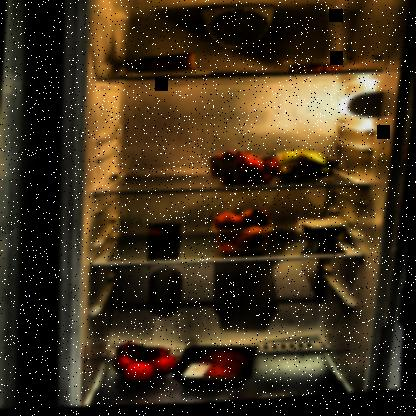banana: (275, 148, 344, 184)
beef: (194, 352, 250, 385)
cheese: (130, 54, 198, 78)
corn: (146, 223, 188, 257)
onion: (213, 211, 272, 255)
shrimp: (286, 60, 354, 81)
strawberries: (206, 148, 286, 193)
tomato: (112, 337, 185, 385)
